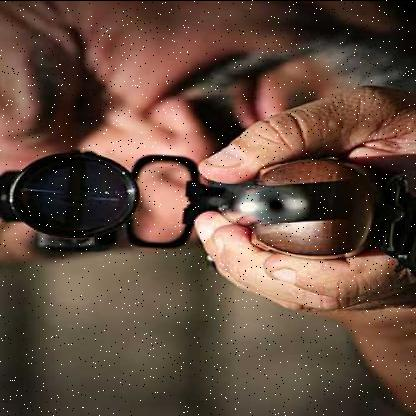rifle: (0, 135, 414, 268)
